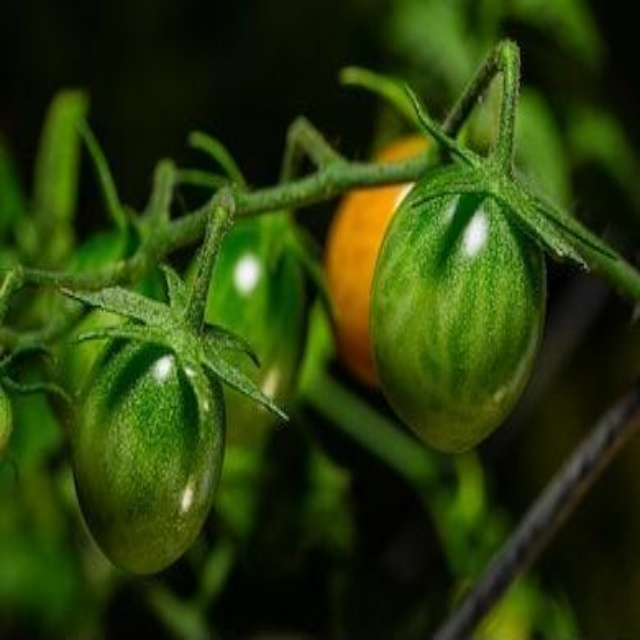tomato: (354, 175, 547, 453), (67, 314, 231, 570), (318, 120, 446, 383), (203, 200, 319, 428)
